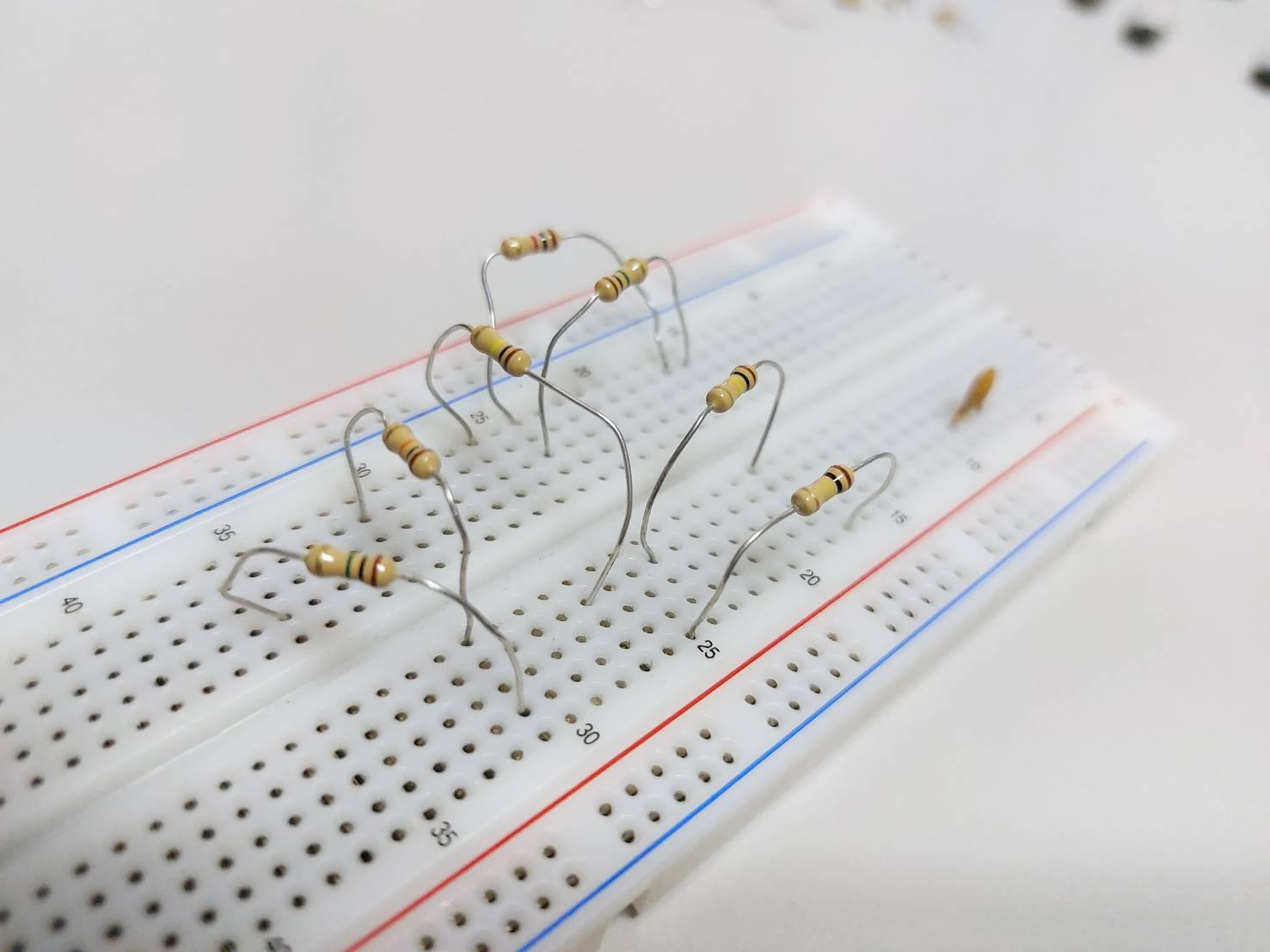resistor: (303, 543, 399, 590), (382, 422, 441, 479), (792, 463, 854, 517), (470, 324, 531, 377), (593, 256, 650, 302), (708, 363, 756, 412), (500, 229, 561, 260)
